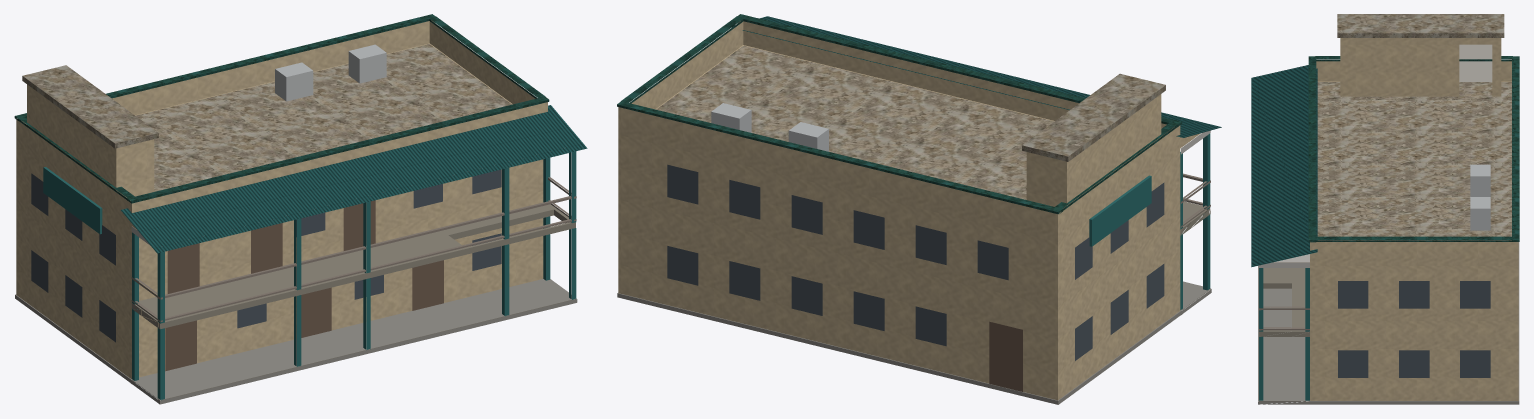
File: cr-motor-court.zfix-v22.lod1.glb
The picture shows the model from 3 angles, left to right: view 1: azimuth 30°, elevation 25°; view 2: azimuth 150°, elevation 25°; view 3: azimuth 270°, elevation 25°; orthographic projection. The views are drawn at different scales.
Parts seen in each view (by area): view 1: cr-motor-court; view 2: cr-motor-court; view 3: cr-motor-court.
Boxes of the visible parts, x1,y1,x2,y2 form: cr-motor-court: [14, 14, 587, 404]; cr-motor-court: [617, 14, 1221, 404]; cr-motor-court: [1251, 14, 1519, 404].
Bounding box in the file's own units: 17.6 × 8.96 × 10.54.
Materials: 4 (3 with a texture image).
